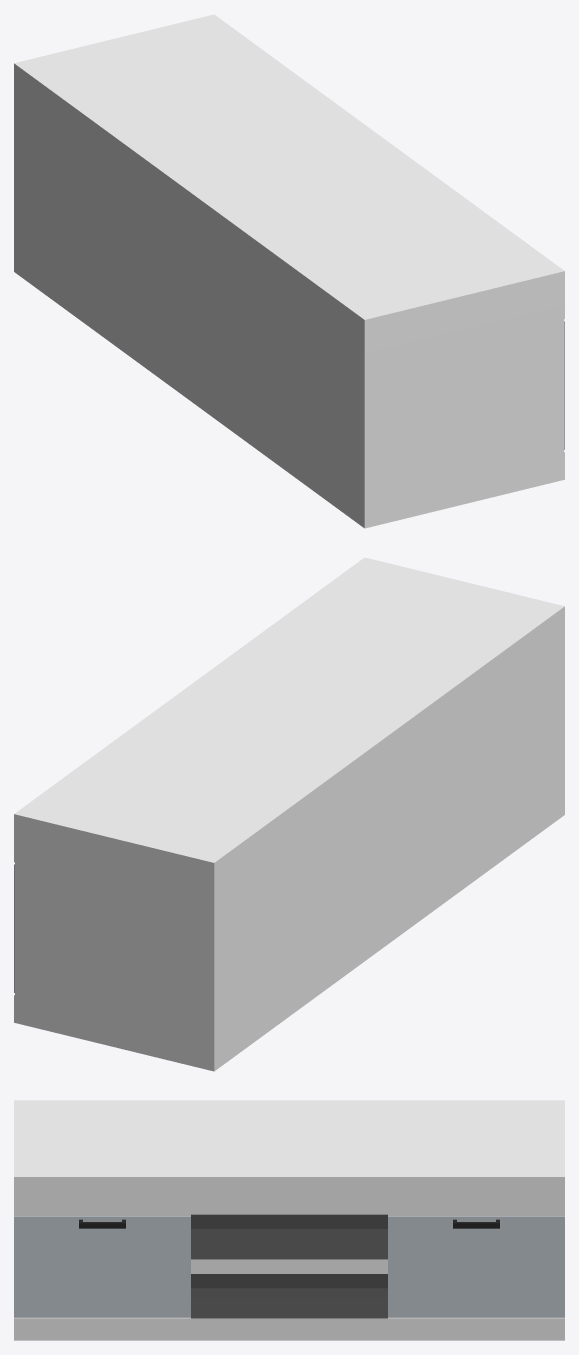
The model's file is tv cabinet.fbx.
The picture shows the model from 3 angles, top to bottom: view 1: azimuth 30°, elevation 25°; view 2: azimuth 150°, elevation 25°; view 3: azimuth 270°, elevation 25°; orthographic projection. The views are drawn at different scales.
Parts seen in each view (by area): view 1: tv cabinet; view 2: tv cabinet; view 3: tv cabinet.
Boxes of the visible parts, x1,y1,x2,y2 form: tv cabinet: (14, 14, 564, 528); tv cabinet: (14, 557, 564, 1071); tv cabinet: (14, 1100, 564, 1340).
Bounding box in the file's own units: 97.46 × 92.45 × 282.
1 material, 1 textured.
